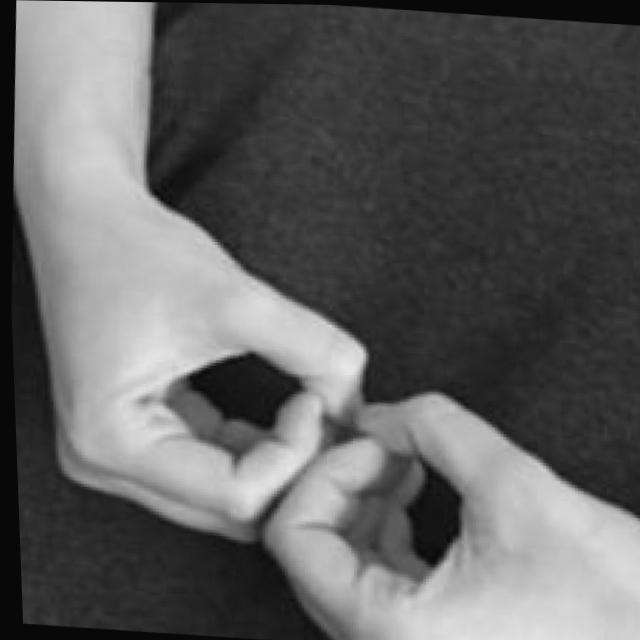B: (17, 183, 640, 640)
